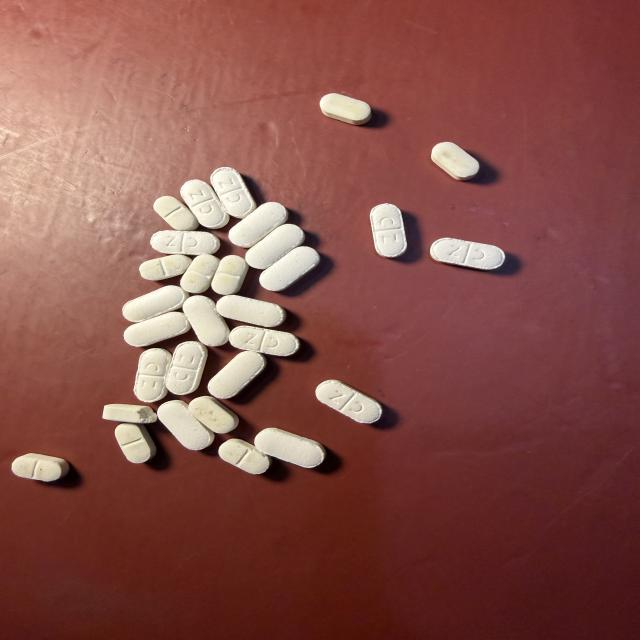pill: (316, 380, 382, 423), (255, 428, 325, 468), (158, 400, 214, 450), (208, 351, 266, 399), (229, 202, 288, 247), (246, 224, 304, 269), (260, 247, 319, 291), (431, 238, 505, 270), (123, 286, 188, 322), (181, 180, 229, 228), (183, 296, 229, 346), (211, 167, 256, 218), (166, 341, 208, 395), (124, 312, 190, 346), (217, 295, 285, 327), (229, 326, 299, 356), (134, 348, 171, 402), (370, 204, 406, 258), (189, 396, 238, 433), (432, 142, 479, 180), (219, 439, 270, 474), (115, 423, 156, 463), (151, 231, 219, 255), (320, 94, 371, 125), (12, 454, 69, 481), (154, 196, 199, 230), (181, 255, 219, 293), (212, 255, 248, 295), (140, 254, 191, 280), (103, 404, 157, 423)
